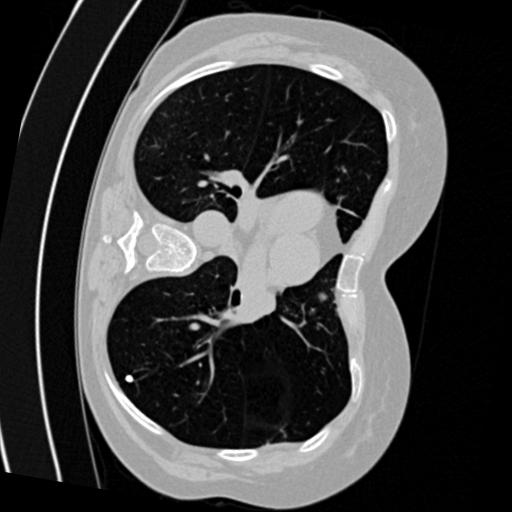nodule: (122, 373, 137, 388)
